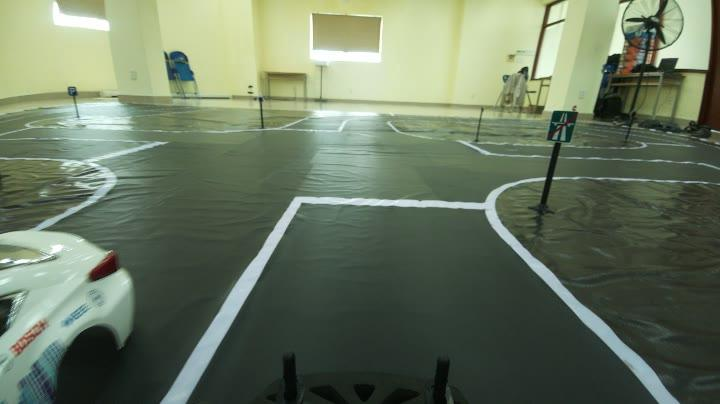car: (0, 222, 148, 404)
highway_exit: (542, 104, 578, 146)
